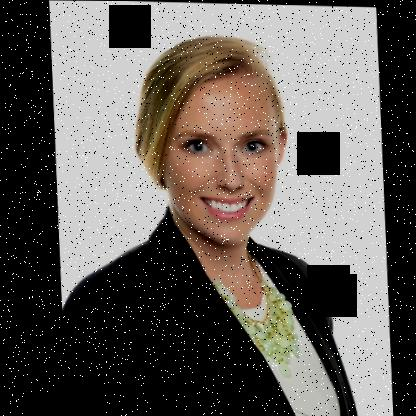Female: (151, 64, 291, 242)
